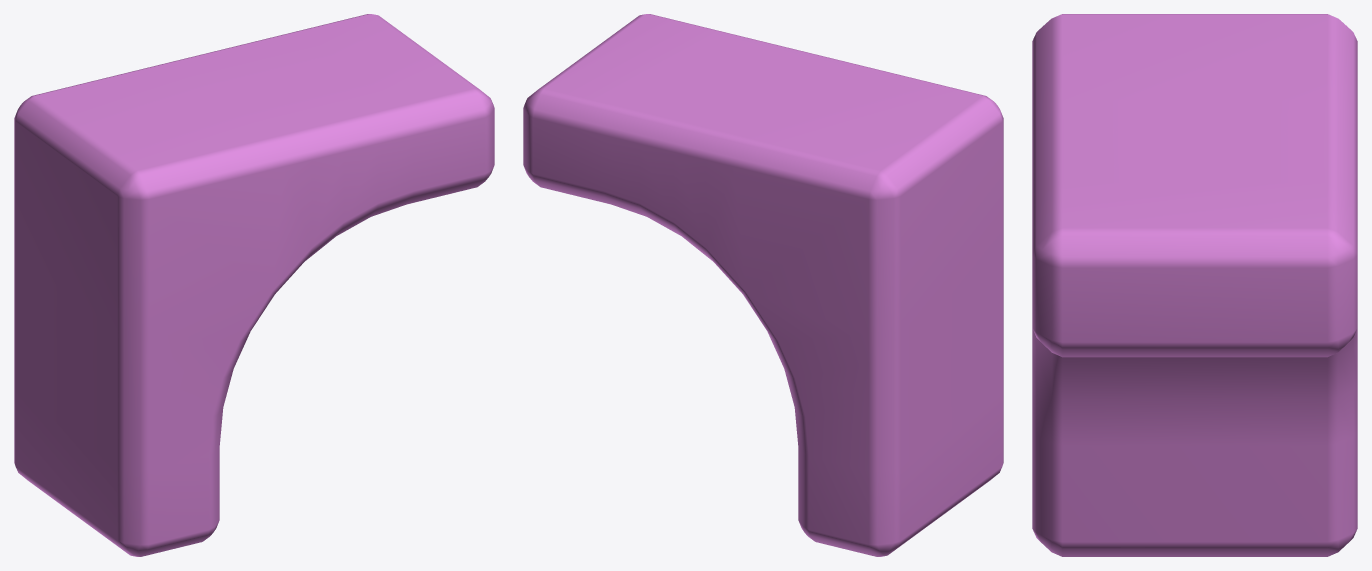
File: CornerBlock.fbx
3 renders of one model, left to right at view 1: azimuth 30°, elevation 25°; view 2: azimuth 150°, elevation 25°; view 3: azimuth 270°, elevation 25°, orthographic. The views are drawn at different scales.
Visible parts, largest first — view 1: Circle.008; view 2: Circle.008; view 3: Circle.008.
Part boxes in pixels (left/top/right/bottom): Circle.008: left=14, top=14, right=494, bottom=556; Circle.008: left=523, top=14, right=1003, bottom=556; Circle.008: left=1032, top=14, right=1357, bottom=556.
Size of the model in its own units: 4.15 by 4.07 by 2.39.
